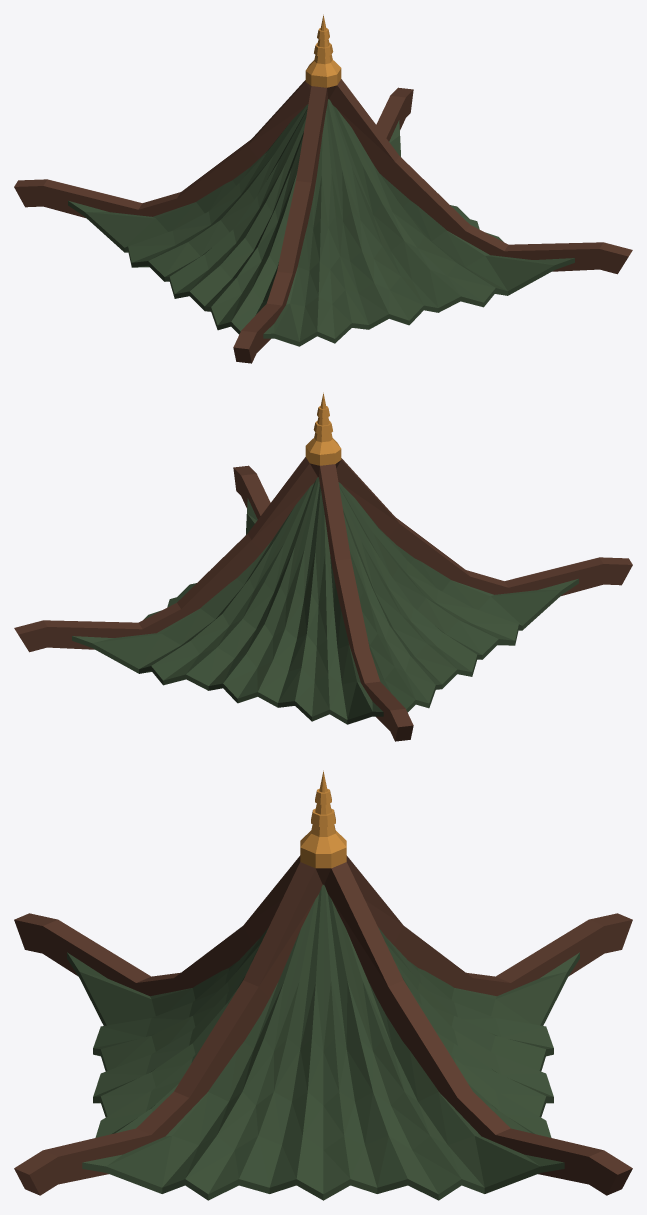
Rendered from Roof_3_2 Asia.fbx.
3 renders of one model, top to bottom at view 1: azimuth 30°, elevation 25°; view 2: azimuth 150°, elevation 25°; view 3: azimuth 270°, elevation 25°, orthographic. The views are drawn at different scales.
Parts seen in each view (by area): view 1: Roof_3_2; view 2: Roof_3_2; view 3: Roof_3_2.
Part boxes in pixels (left/top/right/bottom): Roof_3_2: left=14, top=14, right=632, bottom=363; Roof_3_2: left=14, top=392, right=632, bottom=741; Roof_3_2: left=14, top=770, right=632, bottom=1200.
Size of the model in its own units: 4.06 by 2.44 by 4.06.
